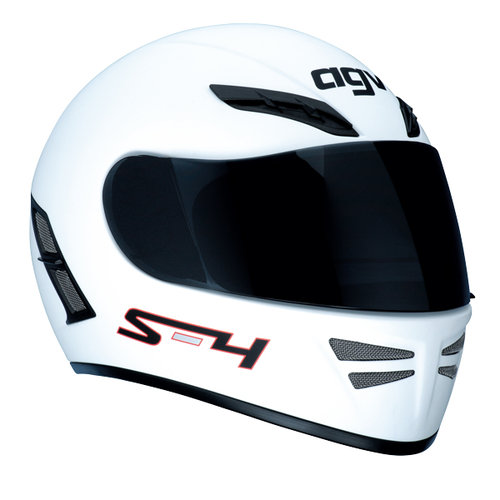helmet: (43, 45, 477, 417)
